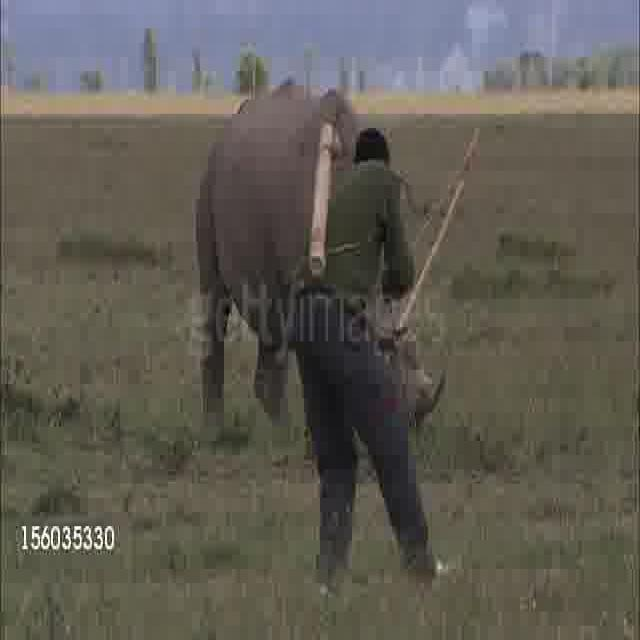poacher: (274, 204, 415, 568)
weapon: (142, 220, 298, 296)
